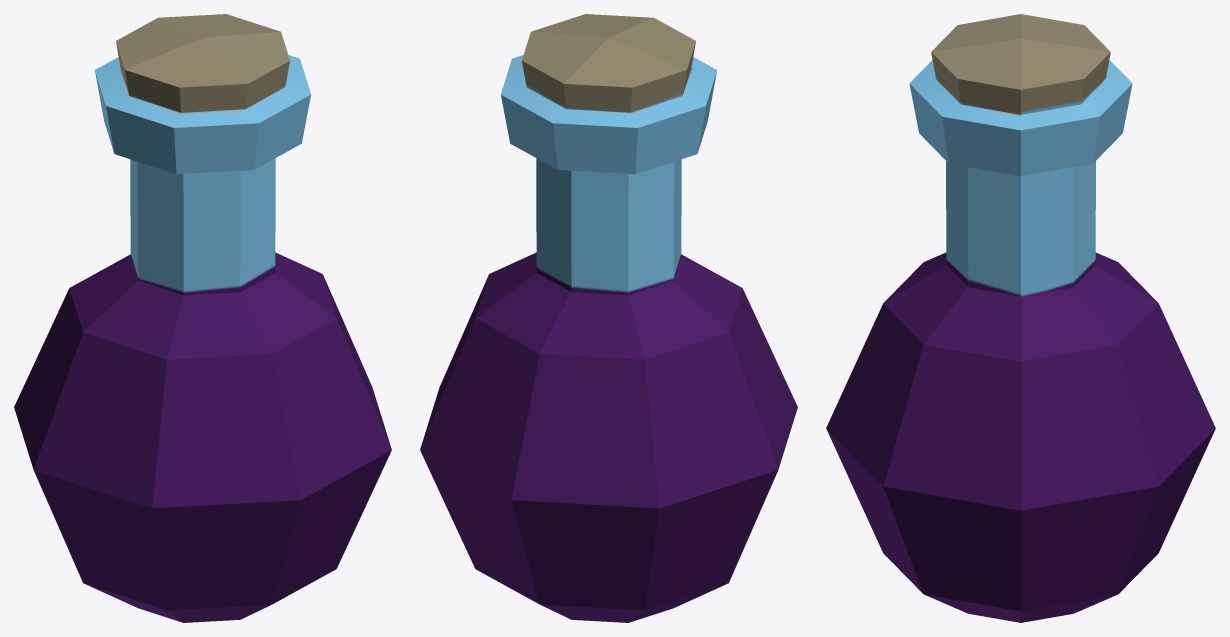
File: pocionDeVida.fbx
The picture shows the model from 3 angles, left to right: view 1: azimuth 30°, elevation 25°; view 2: azimuth 150°, elevation 25°; view 3: azimuth 270°, elevation 25°; orthographic projection.
Visible parts, largest first — view 1: potion; view 2: potion; view 3: potion.
Part boxes in pixels (box(x1,y1,x2,y2)): potion: box(14, 14, 391, 622); potion: box(420, 14, 797, 622); potion: box(826, 14, 1215, 622).
Size of the model in its own units: 0.8683 by 1.39 by 0.8683.
